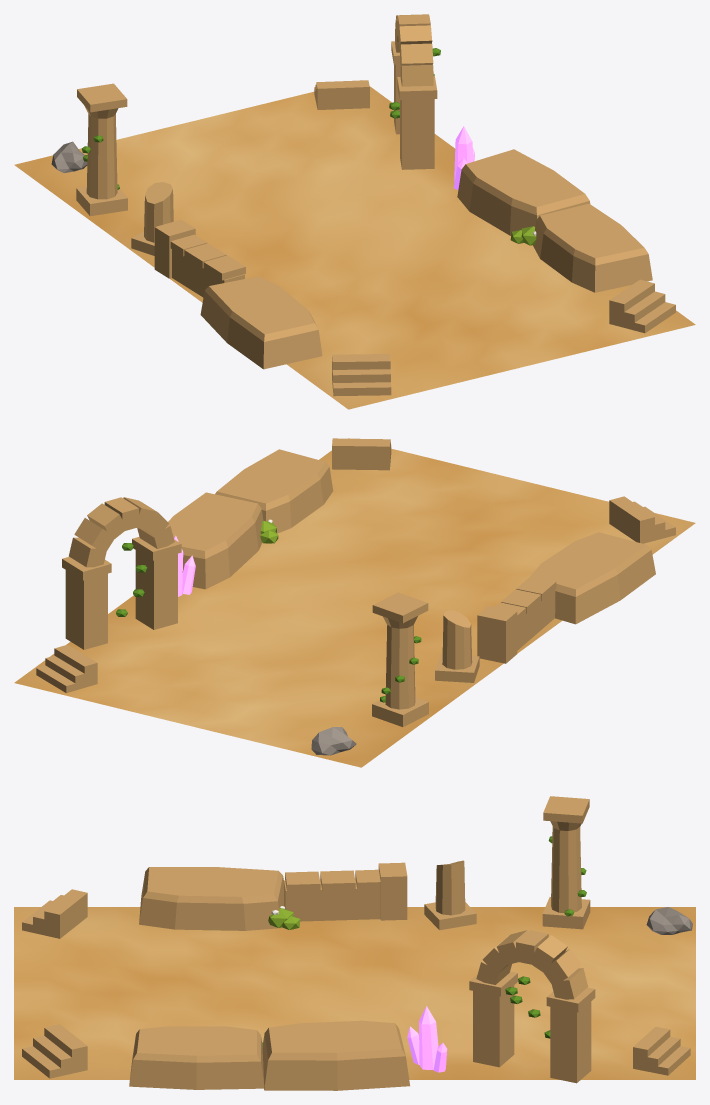
Rendered from field-ruins.glb.
3 views of the same model, one above another, from view 1: azimuth 30°, elevation 25°; view 2: azimuth 150°, elevation 25°; view 3: azimuth 270°, elevation 25° (orthographic).
Parts seen in each view (by area): view 1: Ruins_Ground, Ruins_Bank_L1, Ruins_Bank_R1, Ruins_Bank_R2, Ruins_Arch_R, Ruins_Col_Tall, Ruins_Wall_L1, Ruins_Stairs_BL, Ruins_Stairs_BR, Ruins_Col_Broken, Ruins_Stairs_TR, Ruins_Rock_TL (+1 smaller); view 2: Ruins_Ground, Ruins_Arch_R, Ruins_Bank_L1, Ruins_Bank_R2, Ruins_Bank_R1, Ruins_Col_Tall, Ruins_Wall_L1, Ruins_Col_Broken, Ruins_Stairs_TR, Ruins_Stairs_BL, Ruins_Stairs_BR, Ruins_Rock_TL (+1 smaller); view 3: Ruins_Ground, Ruins_Arch_R, Ruins_Bank_R2, Ruins_Bank_L1, Ruins_Bank_R1, Ruins_Wall_L1, Ruins_Col_Tall, Ruins_Stairs_BR, Ruins_Col_Broken, Ruins_Stairs_BL, Ruins_Stairs_TR, Ruins_Crystal_R (+2 smaller).
Boxes of the visible parts, <box> form: Ruins_Ground: <box>14,80,695,409</box>; Ruins_Bank_L1: <box>200,276,322,369</box>; Ruins_Bank_R1: <box>533,203,652,292</box>; Ruins_Bank_R2: <box>457,149,590,235</box>; Ruins_Arch_R: <box>391,14,437,169</box>; Ruins_Col_Tall: <box>76,83,127,216</box>; Ruins_Wall_L1: <box>154,219,245,297</box>; Ruins_Stairs_BL: <box>332,354,391,396</box>; Ruins_Stairs_BR: <box>609,279,675,333</box>; Ruins_Col_Broken: <box>131,182,173,255</box>; Ruins_Stairs_TR: <box>314,80,369,109</box>; Ruins_Rock_TL: <box>51,141,87,172</box>; Ruins_Ground: <box>14,438,695,767</box>; Ruins_Arch_R: <box>62,497,181,649</box>; Ruins_Bank_L1: <box>530,532,655,624</box>; Ruins_Bank_R2: <box>168,492,263,589</box>; Ruins_Bank_R1: <box>215,449,333,533</box>; Ruins_Col_Tall: <box>372,592,428,726</box>; Ruins_Wall_L1: <box>477,576,556,663</box>; Ruins_Col_Broken: <box>435,610,479,682</box>; Ruins_Stairs_TR: <box>36,644,97,693</box>; Ruins_Stairs_BL: <box>609,496,675,543</box>; Ruins_Stairs_BR: <box>332,438,391,470</box>; Ruins_Rock_TL: <box>311,727,356,755</box>; Ruins_Ground: <box>14,907,695,1079</box>; Ruins_Arch_R: <box>469,930,595,1083</box>; Ruins_Bank_R2: <box>262,1020,409,1090</box>; Ruins_Bank_L1: <box>139,867,283,930</box>; Ruins_Bank_R1: <box>129,1026,264,1089</box>; Ruins_Wall_L1: <box>284,862,407,921</box>; Ruins_Col_Tall: <box>542,796,590,929</box>; Ruins_Stairs_BR: <box>22,1024,87,1078</box>; Ruins_Col_Broken: <box>424,860,476,930</box>; Ruins_Stairs_BL: <box>22,889,87,938</box>; Ruins_Stairs_TR: <box>633,1026,690,1075</box>; Ruins_Crystal_R: <box>407,1006,447,1072</box>.
Bounding box in the file's own units: 13.54 × 4.21 × 20.
